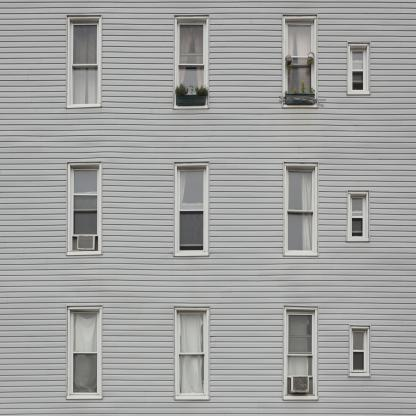Building Outline: (0, 1, 416, 415)
Facade: (0, 1, 416, 415)
Floor: (1, 1, 415, 144), (1, 152, 415, 288), (1, 297, 415, 416)
Floor Slab: (1, 288, 415, 297), (1, 144, 415, 153)
Window: (286, 310, 315, 397), (286, 165, 315, 252), (70, 309, 99, 396), (70, 164, 99, 251), (178, 309, 207, 396), (178, 164, 207, 251), (286, 18, 315, 104), (70, 18, 99, 104), (178, 18, 207, 104), (350, 46, 367, 90), (352, 328, 368, 373), (350, 194, 366, 238)
